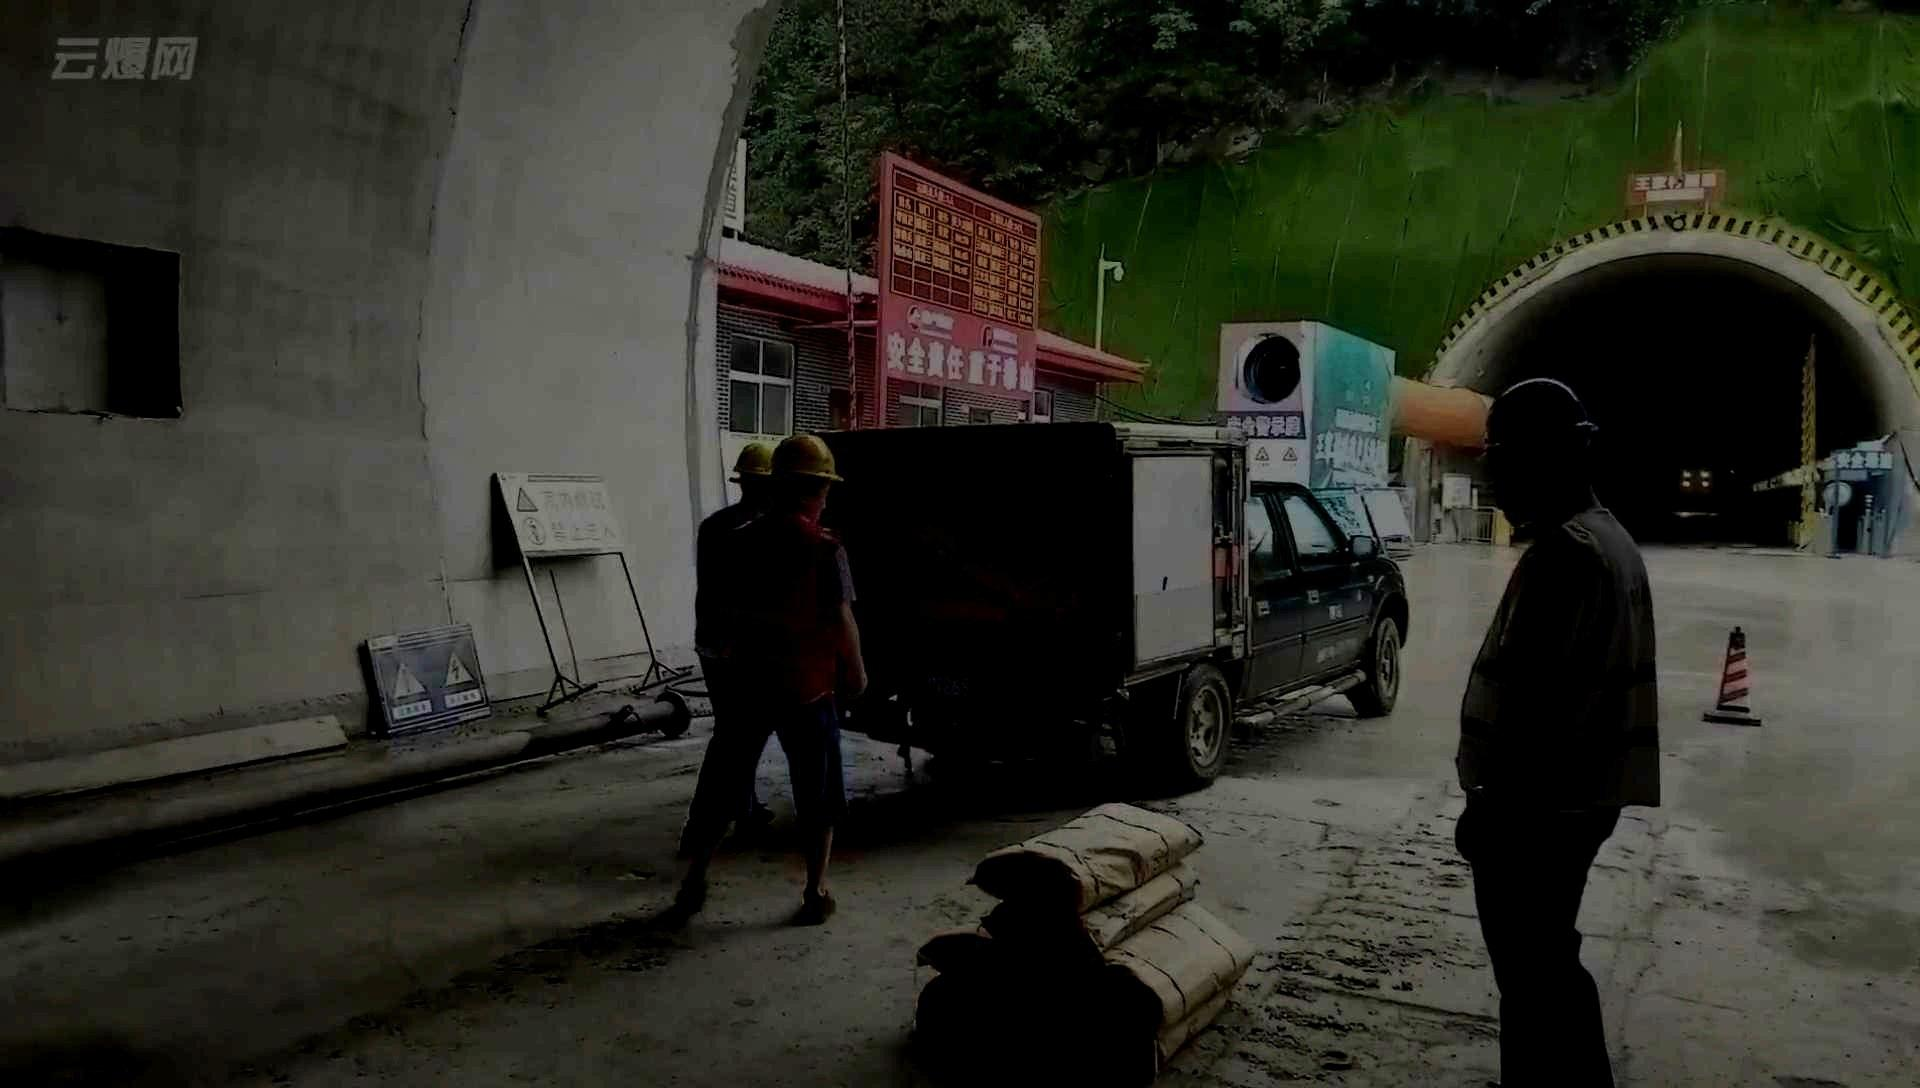helmet: (1480, 378, 1600, 528), (767, 433, 844, 526), (732, 440, 774, 496)
